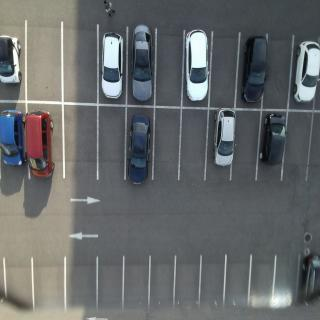car: (26, 107, 57, 185), (239, 33, 267, 109), (126, 111, 153, 187), (293, 37, 320, 108), (211, 105, 237, 178), (185, 29, 209, 107), (132, 24, 155, 105), (101, 33, 127, 103), (260, 110, 288, 174), (2, 106, 28, 172), (1, 33, 26, 100)
parking-space: (24, 20, 65, 107), (61, 23, 101, 109), (60, 101, 100, 186), (154, 28, 187, 110), (96, 104, 129, 183), (152, 106, 185, 184), (265, 33, 296, 114), (284, 108, 315, 187), (210, 31, 240, 112), (179, 107, 210, 184), (232, 107, 263, 184)
